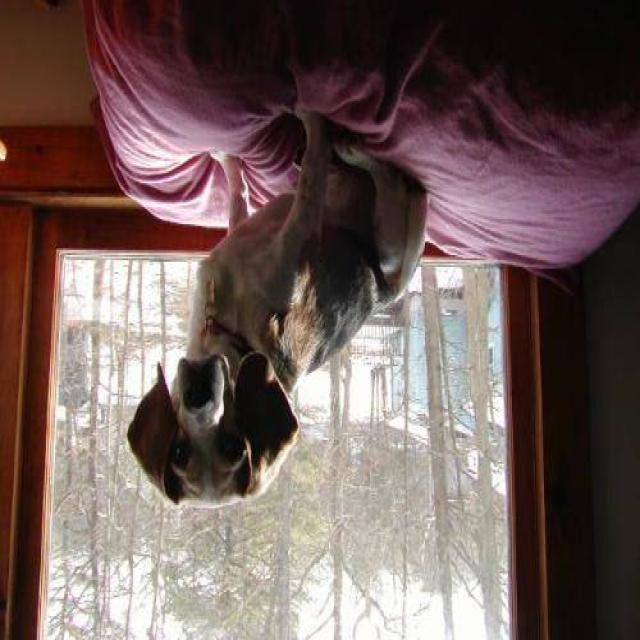dog: (112, 108, 446, 531)
